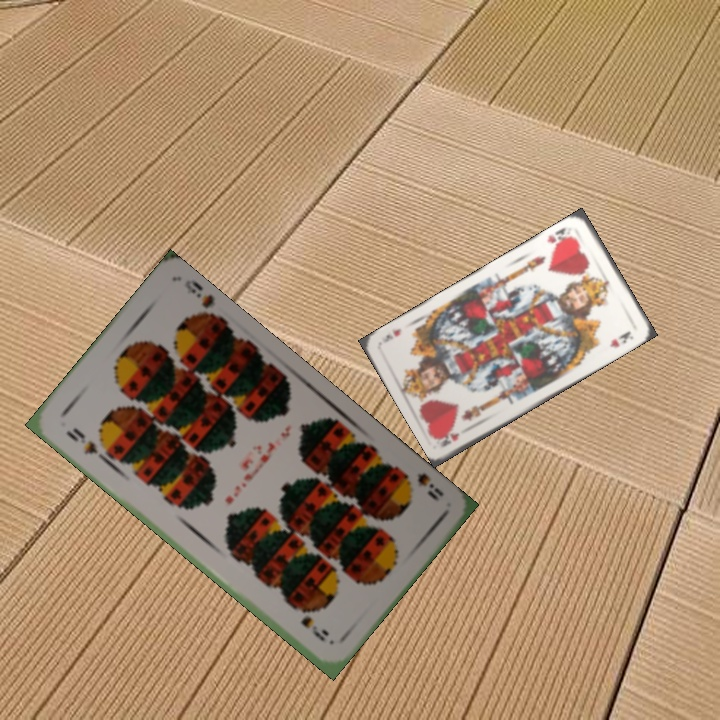HK: (543, 223, 575, 252), (436, 429, 462, 449)
S9: (396, 465, 446, 504), (61, 423, 107, 462)
